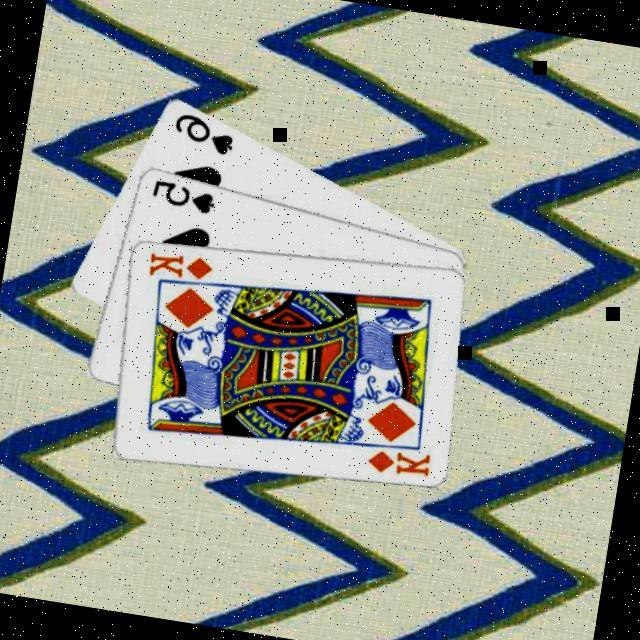5S: (146, 173, 220, 216)
6S: (166, 106, 240, 158)
KD: (143, 244, 217, 286), (362, 439, 434, 481)
